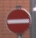No entry: (5, 6, 31, 33)
